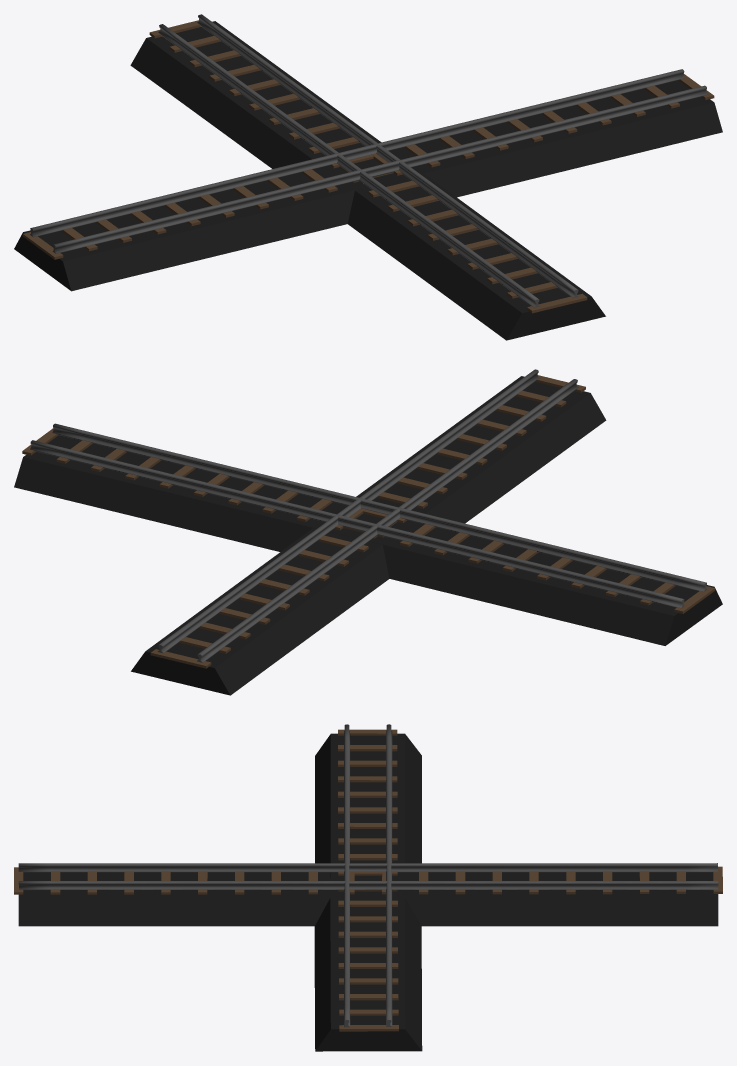
Rendered from 03_rail_cross.obj.
3 views of the same model, one above another, from view 1: azimuth 30°, elevation 25°; view 2: azimuth 150°, elevation 25°; view 3: azimuth 270°, elevation 25° (orthographic). The views are drawn at different scales.
Visible parts, largest first — view 1: Mesh_02_Straight; view 2: Mesh_02_Straight; view 3: Mesh_02_Straight.
Part boxes in pixels (x1,y1,x2,y2): Mesh_02_Straight: (14, 14, 722, 340); Mesh_02_Straight: (14, 369, 722, 695); Mesh_02_Straight: (14, 724, 722, 1051).
Size of the model in its own units: 1.01 by 0.0496 by 1.01.
